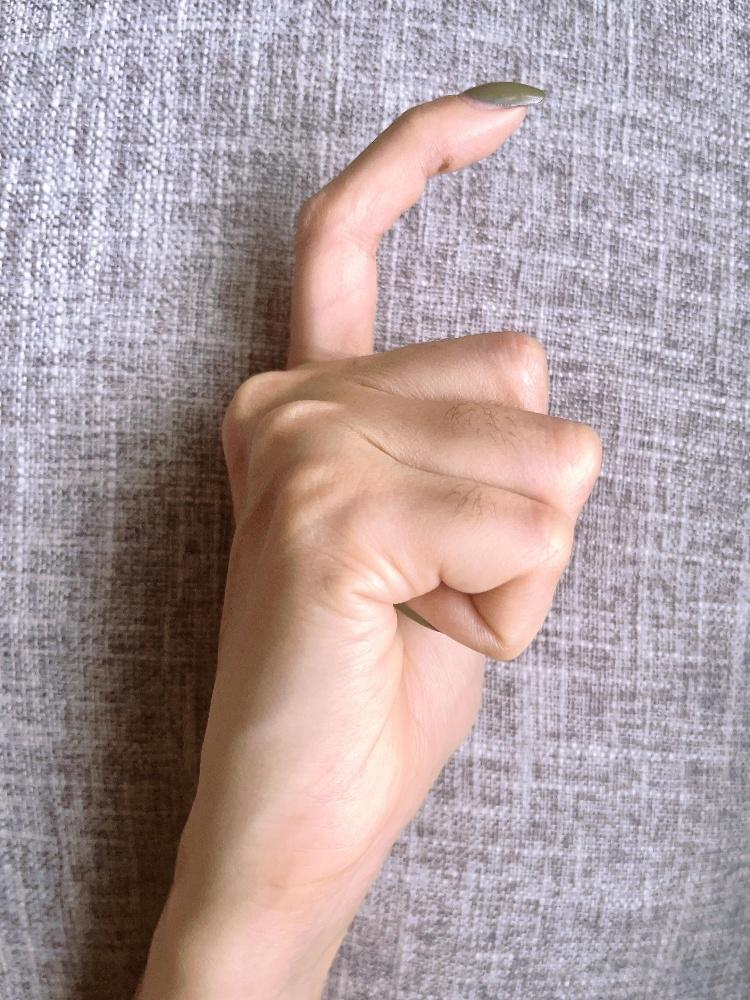x: (216, 76, 609, 864)
